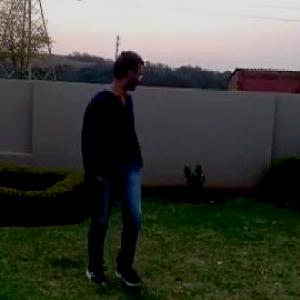follow: (81, 49, 150, 253)
